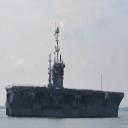Portanaves: (6, 25, 126, 121)
